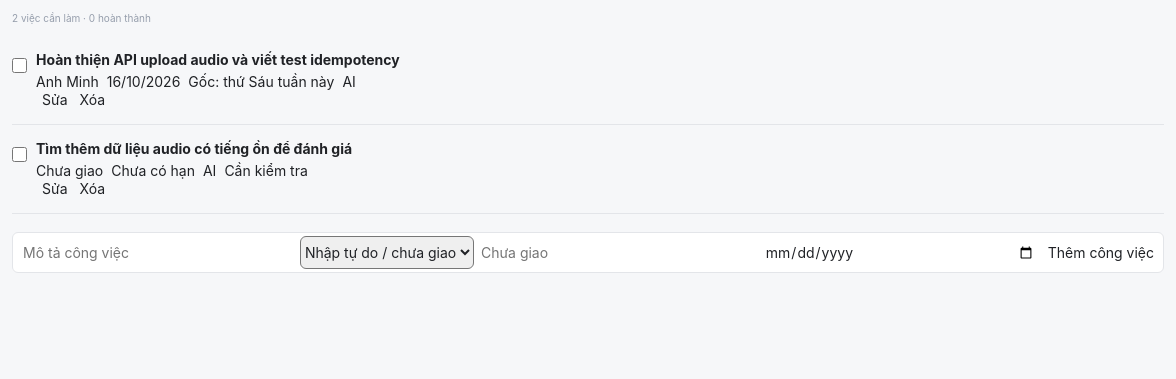
Test: FE-13 action item CRUD › creates an item with a speaker and due date
The image size is (1176, 379).
Expected: the text "Hoàn thiện API upload audio và viết test idempotency" is shown, x1=36 y1=51 x2=400 y2=68
Type "Kiểm tra bản ghi" into the field named "Thêm nội dung" at coordinates (158, 252), box x1=16 y1=236 x2=300 y2=269
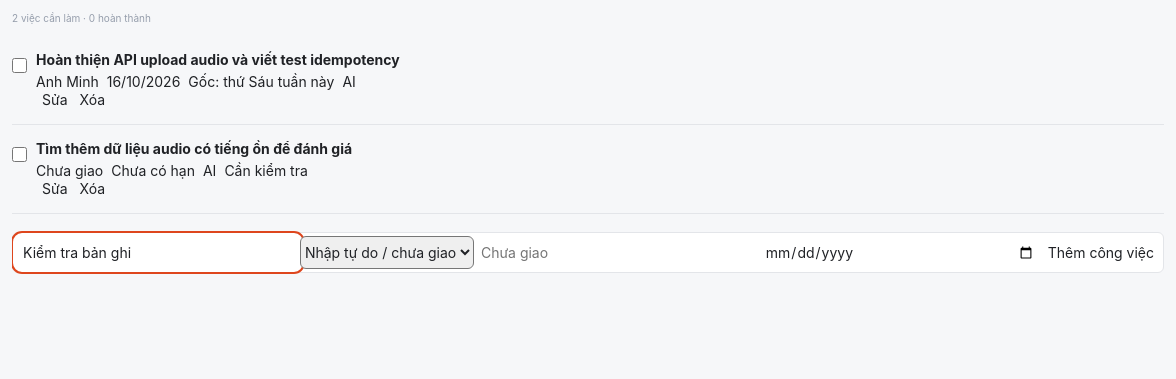
Select "Chị Lan (PM)" in the dropdown named "Thêm người nói" at coordinates (387, 252), box x1=300 y1=236 x2=474 y2=269
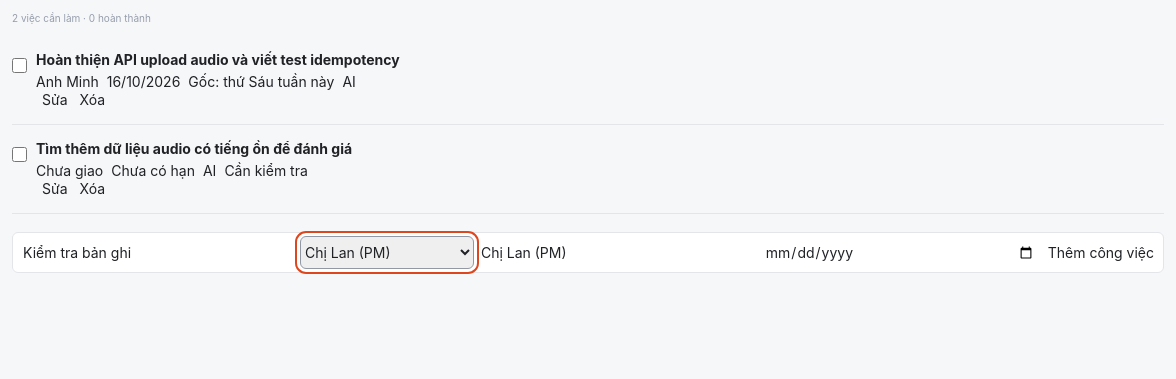
Type "2026-10-30" into the date field named "Thêm hạn" at coordinates (900, 252), box x1=758 y1=236 x2=1042 y2=269
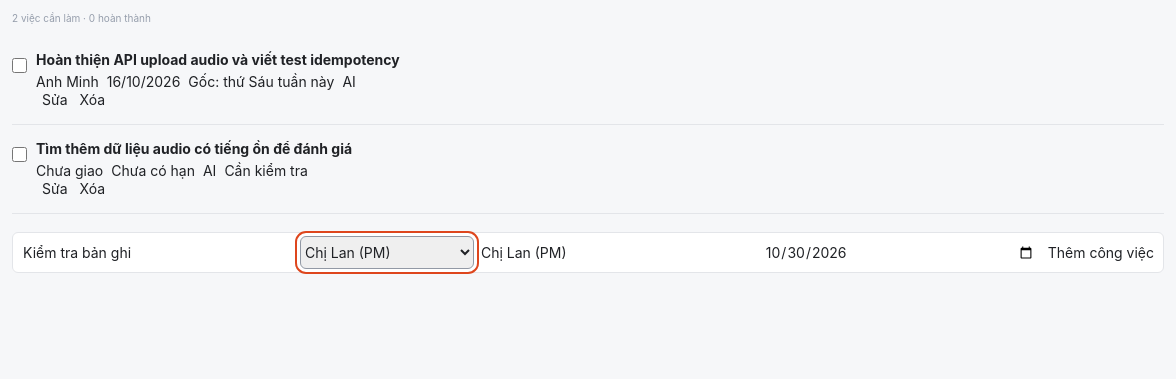
Click the button "Thêm công việc" at coordinates (1101, 252), box x1=1042 y1=236 x2=1160 y2=269
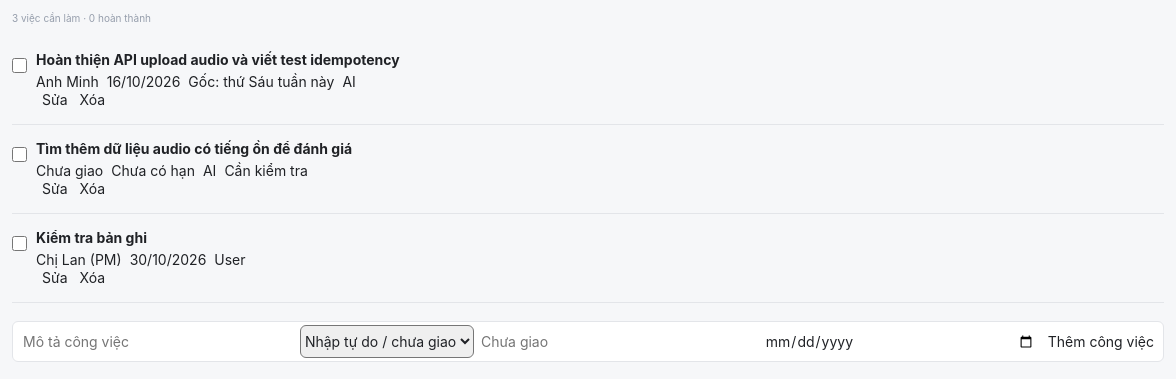
Expected: the text "Kiểm tra bản ghi" is shown, x1=36 y1=229 x2=147 y2=246
